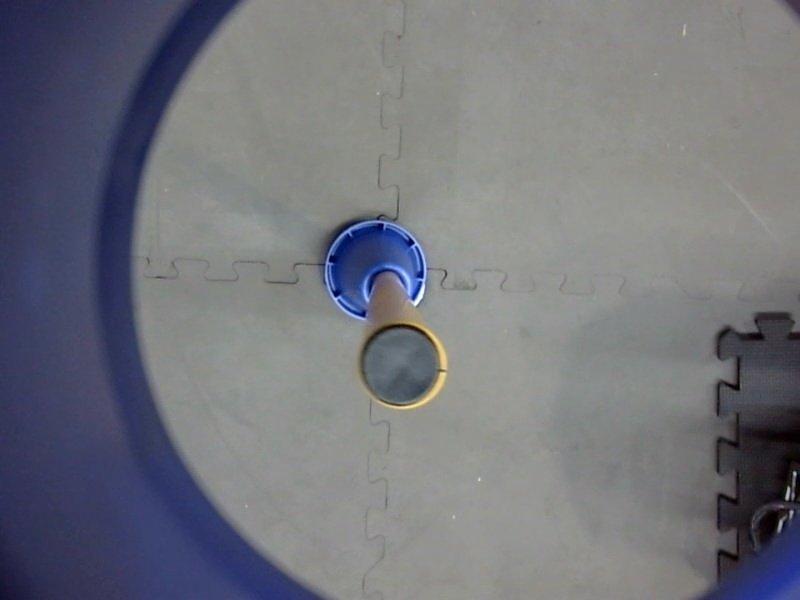tip: (352, 314, 453, 415)
